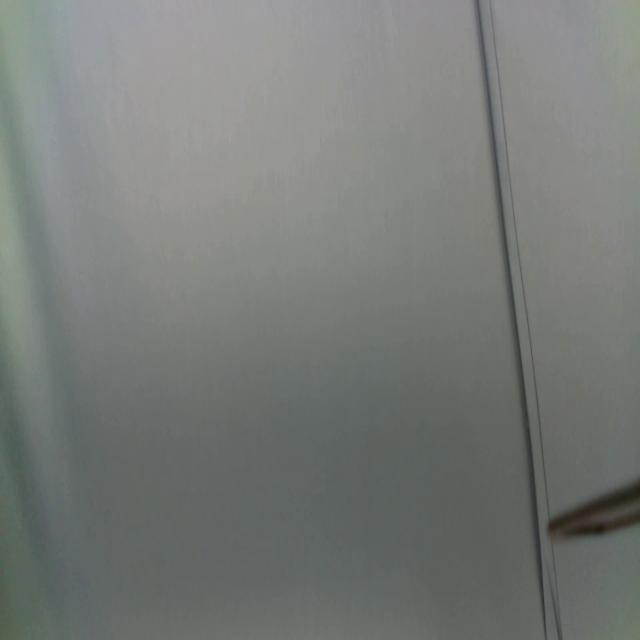crease: (475, 0, 550, 520), (538, 542, 563, 640)
